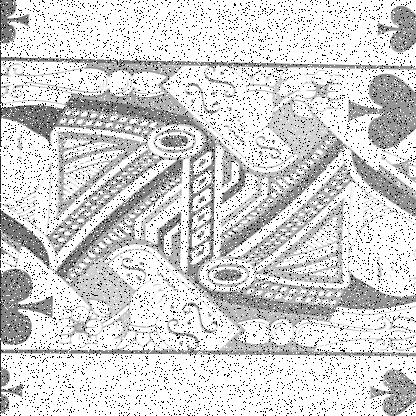Qs: (354, 353, 416, 415), (361, 0, 415, 66)
